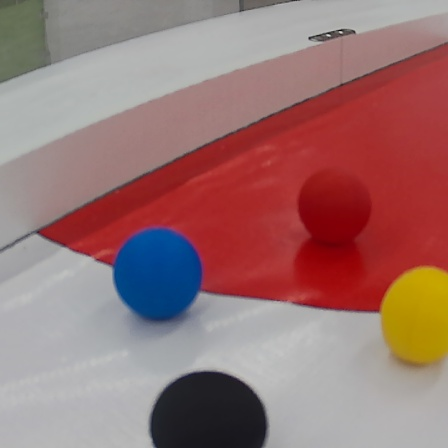black: (147, 370, 272, 447)
blue: (115, 229, 203, 322)
red: (299, 173, 370, 243)
red_base: (36, 42, 448, 313)
yellow: (379, 265, 448, 366)
